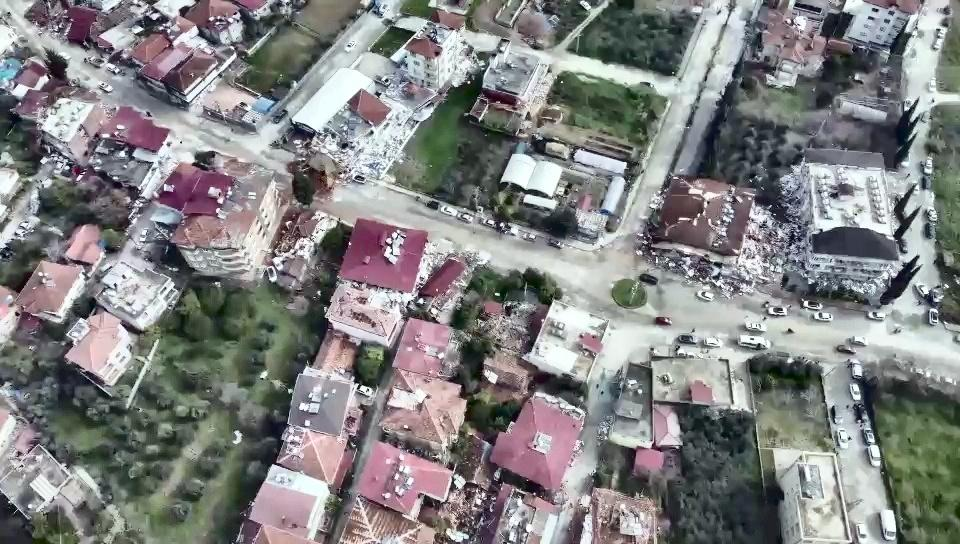kapali: (265, 148, 376, 225)
